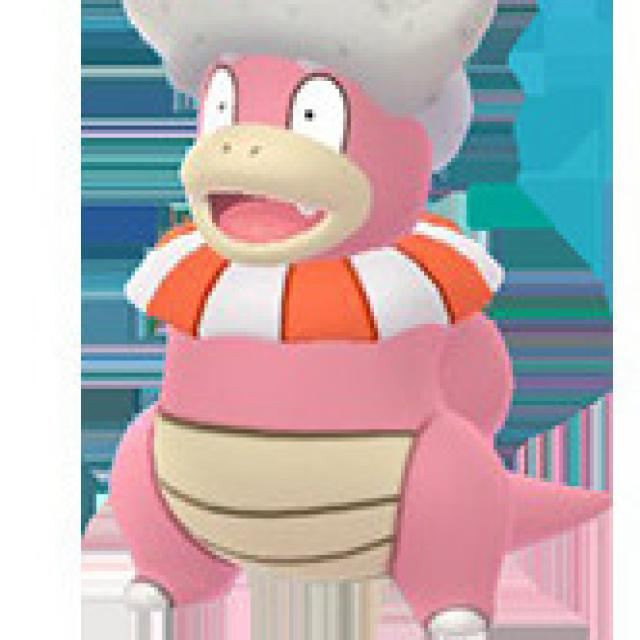Slowpoke: (104, 63, 522, 640)
